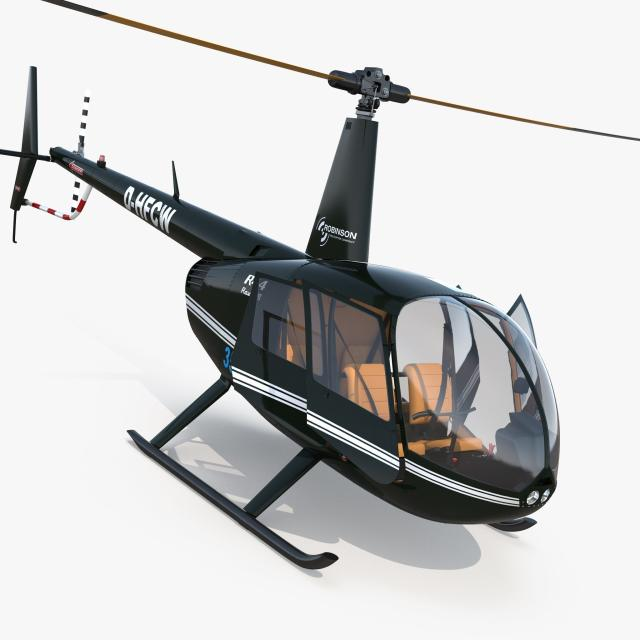CIV_HELO: (10, 59, 562, 574)
